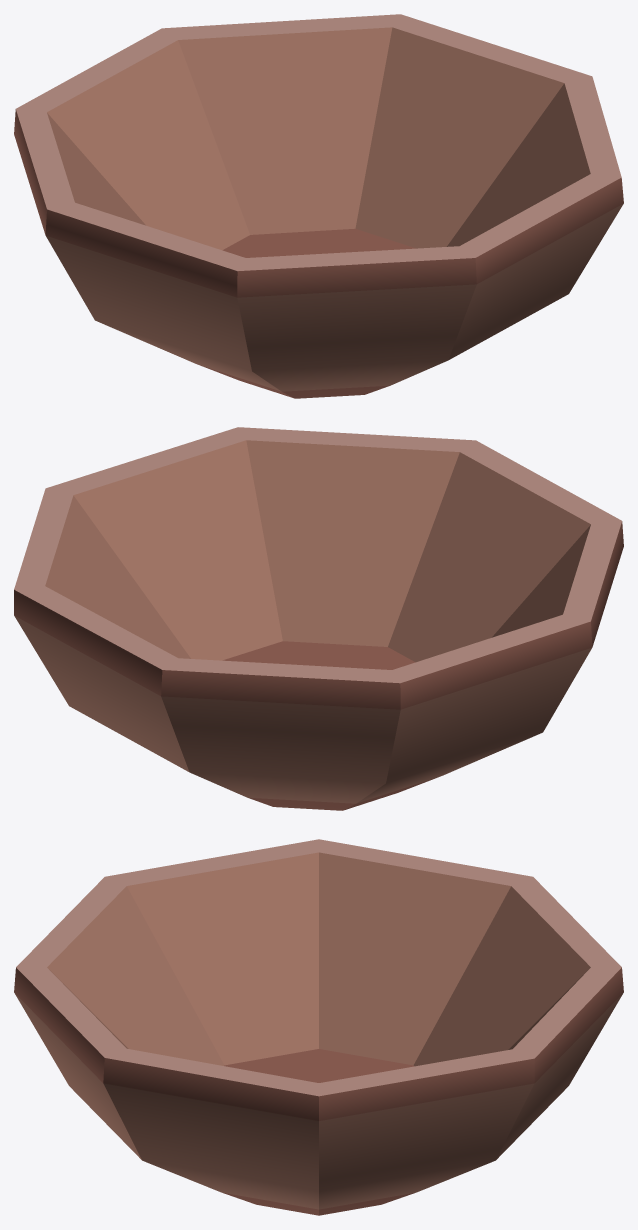
The model's file is bowl.fbx.
3 renders of one model, top to bottom at view 1: azimuth 30°, elevation 25°; view 2: azimuth 150°, elevation 25°; view 3: azimuth 270°, elevation 25°, orthographic. The views are drawn at different scales.
Parts seen in each view (by area): view 1: bowl; view 2: bowl; view 3: bowl.
Boxes of the visible parts, x1,y1,x2,y2 form: bowl: [14, 14, 623, 398]; bowl: [14, 427, 623, 810]; bowl: [14, 839, 623, 1215].
Size of the model in its own units: 1.86 by 0.7102 by 1.86.
Materials: 1 (1 with a texture image).
